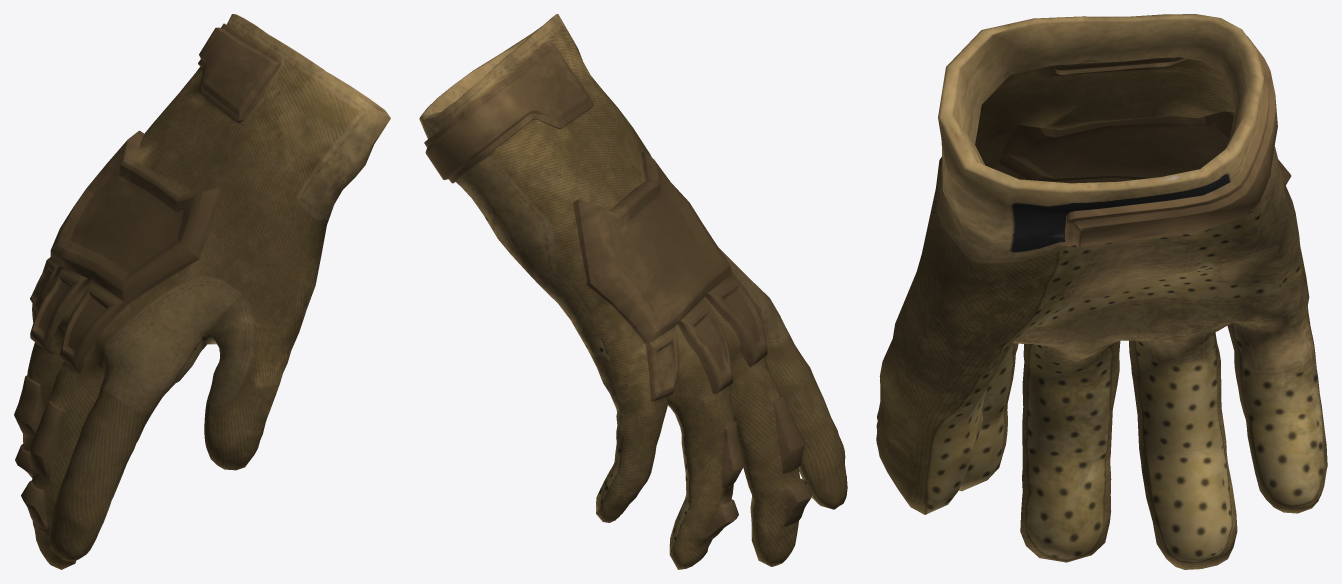
Rendered from RightHandGlove.fbx.
The picture shows the model from 3 angles, left to right: view 1: azimuth 30°, elevation 25°; view 2: azimuth 150°, elevation 25°; view 3: azimuth 270°, elevation 25°; orthographic projection. The views are drawn at different scales.
Parts seen in each view (by area): view 1: gloves; view 2: gloves; view 3: gloves.
Part boxes in pixels (left/top/right/bottom): gloves: left=14, top=14, right=390, bottom=569; gloves: left=419, top=14, right=847, bottom=569; gloves: left=876, top=14, right=1327, bottom=569.
Bounding box in the file's own units: 18.88 × 24 × 13.63.
